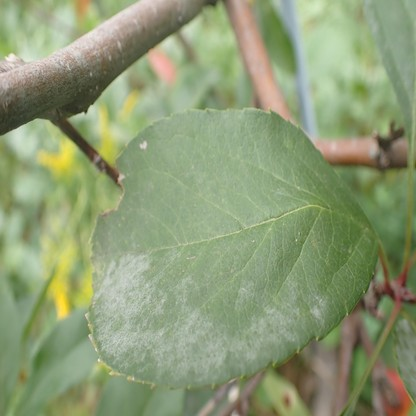powdery_mildew: (84, 249, 324, 388), (394, 319, 416, 399)
